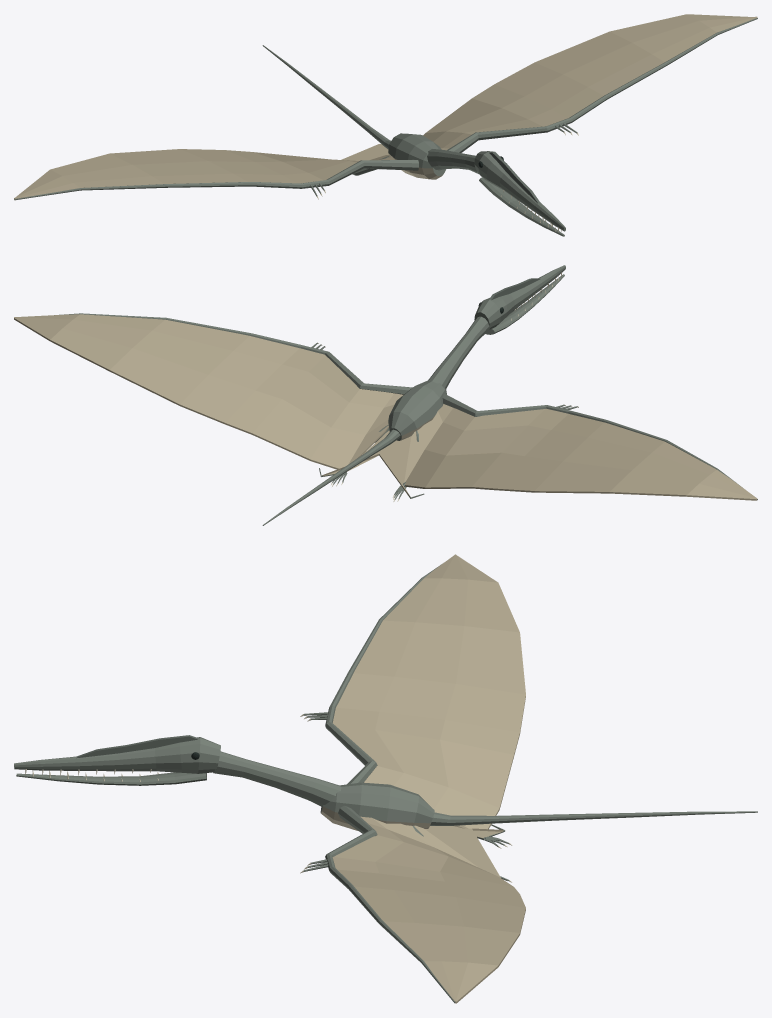
3 views of the same model, one above another, from view 1: azimuth 30°, elevation 25°; view 2: azimuth 150°, elevation 25°; view 3: azimuth 270°, elevation 25° (orthographic). The views are drawn at different scales.
Parts seen in each view (by area): view 1: right-closed-wing-membrane, left-closed-wing-membrane, left-arm-wing-finger, right-arm-wing-finger, upper-head, torso, neck, lower-jaw, long-stiff-tail, restrained-hind-membrane, cranial-crest; view 2: right-closed-wing-membrane, left-closed-wing-membrane, torso, upper-head, right-arm-wing-finger, neck, left-arm-wing-finger, restrained-hind-membrane, long-stiff-tail, lower-jaw; view 3: left-closed-wing-membrane, right-closed-wing-membrane, upper-head, torso, neck, long-stiff-tail, right-arm-wing-finger, left-arm-wing-finger, restrained-hind-membrane, lower-jaw, cranial-crest.
Boxes of the visible parts, <box> form: right-closed-wing-membrane: <box>423,14,757,150</box>; left-closed-wing-membrane: <box>14,149,394,200</box>; left-arm-wing-finger: <box>14,159,418,199</box>; right-arm-wing-finger: <box>447,18,757,152</box>; upper-head: <box>474,151,565,231</box>; torso: <box>388,133,446,179</box>; neck: <box>427,149,479,174</box>; lower-jaw: <box>479,177,564,236</box>; long-stiff-tail: <box>262,45,390,149</box>; restrained-hind-membrane: <box>341,144,388,160</box>; cranial-crest: <box>489,152,540,203</box>; right-closed-wing-membrane: <box>14,314,403,469</box>; left-closed-wing-membrane: <box>404,404,757,500</box>; torso: <box>388,380,446,440</box>; upper-head: <box>474,265,565,329</box>; right-arm-wing-finger: <box>54,313,412,394</box>; neck: <box>428,316,489,388</box>; left-arm-wing-finger: <box>442,394,757,500</box>; restrained-hind-membrane: <box>321,430,411,496</box>; long-stiff-tail: <box>262,429,400,525</box>; lower-jaw: <box>485,274,564,334</box>; left-closed-wing-membrane: <box>333,554,525,829</box>; right-closed-wing-membrane: <box>332,816,525,1003</box>; upper-head: <box>14,737,220,773</box>; torso: <box>320,782,434,830</box>; neck: <box>213,751,341,806</box>; long-stiff-tail: <box>430,811,757,825</box>; right-arm-wing-finger: <box>325,805,455,1003</box>; left-arm-wing-finger: <box>325,564,441,784</box>; restrained-hind-membrane: <box>425,826,503,877</box>; lower-jaw: <box>16,772,206,785</box>; cranial-crest: <box>76,735,197,758</box>.
Bounding box in the file's own units: 0.8805 × 0.1179 × 0.6191.
